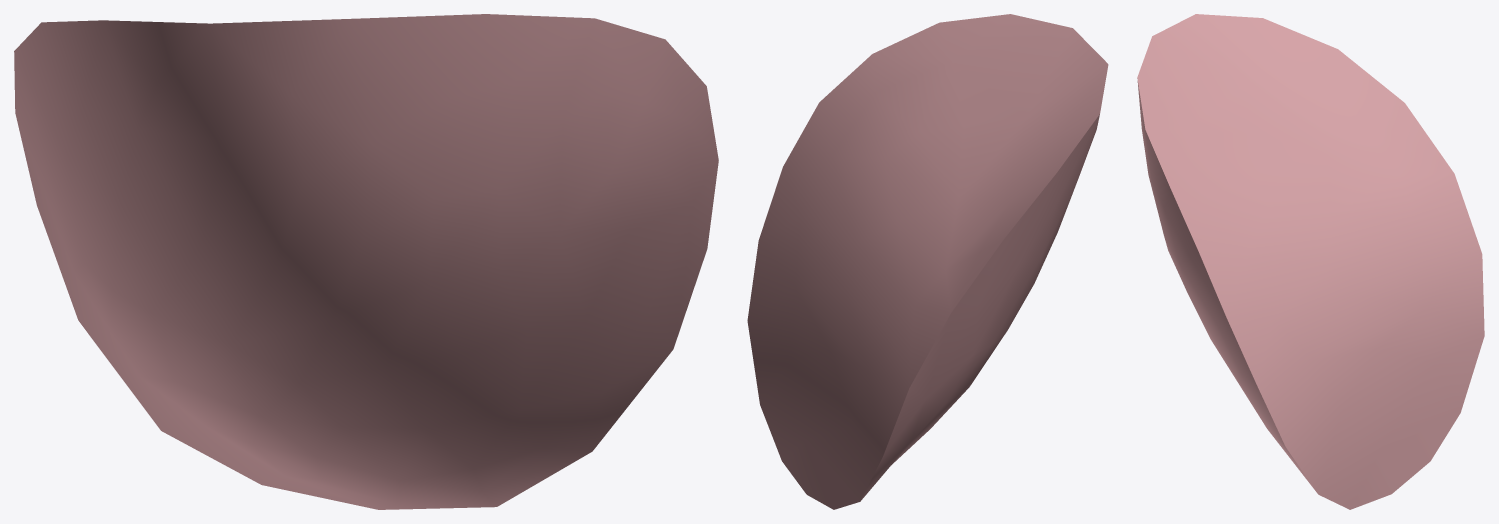
Rendered from fma80471_mm1602m.glb.
3 renders of one model, left to right at view 1: azimuth 30°, elevation 25°; view 2: azimuth 150°, elevation 25°; view 3: azimuth 270°, elevation 25°, orthographic. The views are drawn at different scales.
Parts seen in each view (by area): view 1: FMA80471_MM1602M; view 2: FMA80471_MM1602M; view 3: FMA80471_MM1602M.
Boxes of the visible parts, box(x1,y1,x2,y2) form: FMA80471_MM1602M: box(14, 14, 718, 509); FMA80471_MM1602M: box(747, 14, 1108, 509); FMA80471_MM1602M: box(1137, 14, 1484, 509).
Size of the model in its own units: 0.0133 by 0.0151 by 0.0121.
